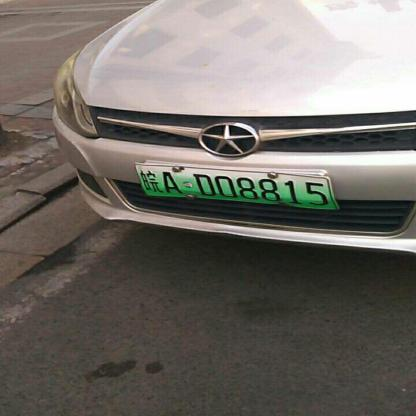lp: (134, 163, 337, 209)
